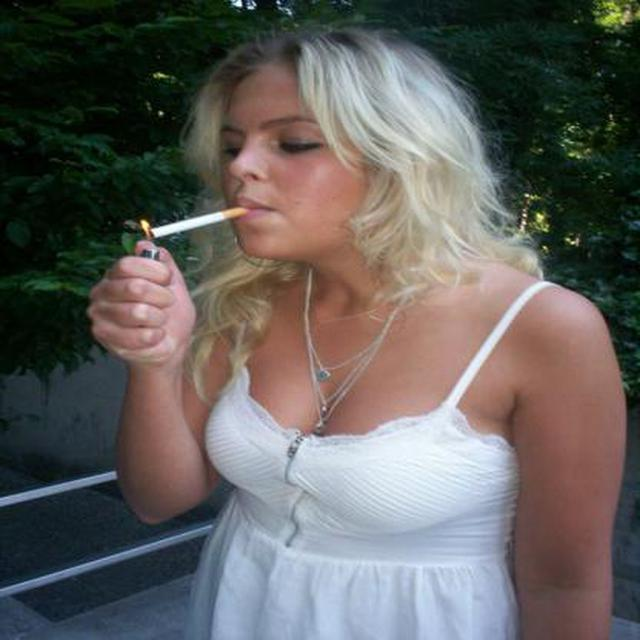smoking: (134, 206, 252, 244)
